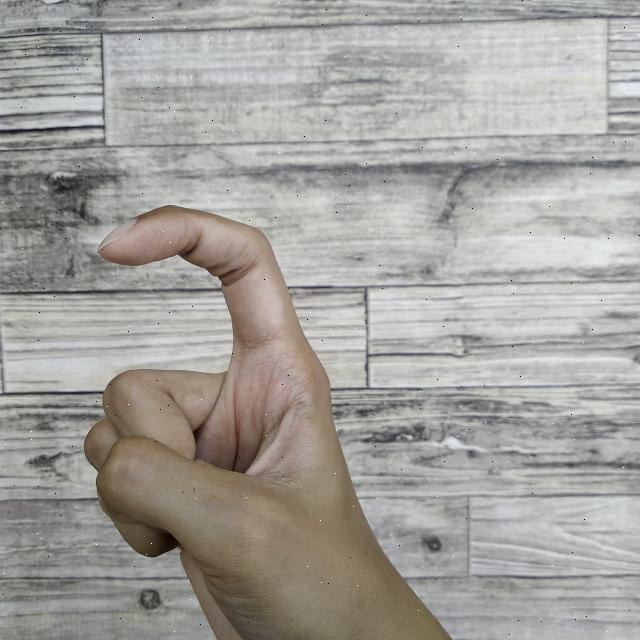X: (86, 197, 457, 640)
